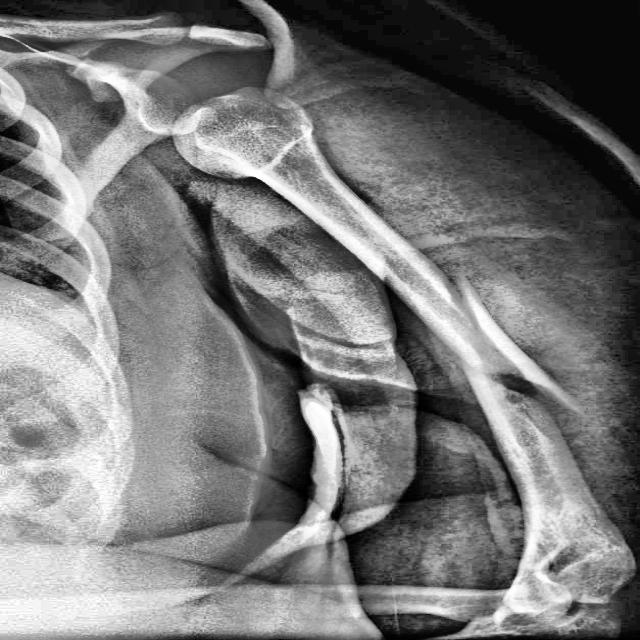messed_up_angle: (438, 272, 593, 422)
